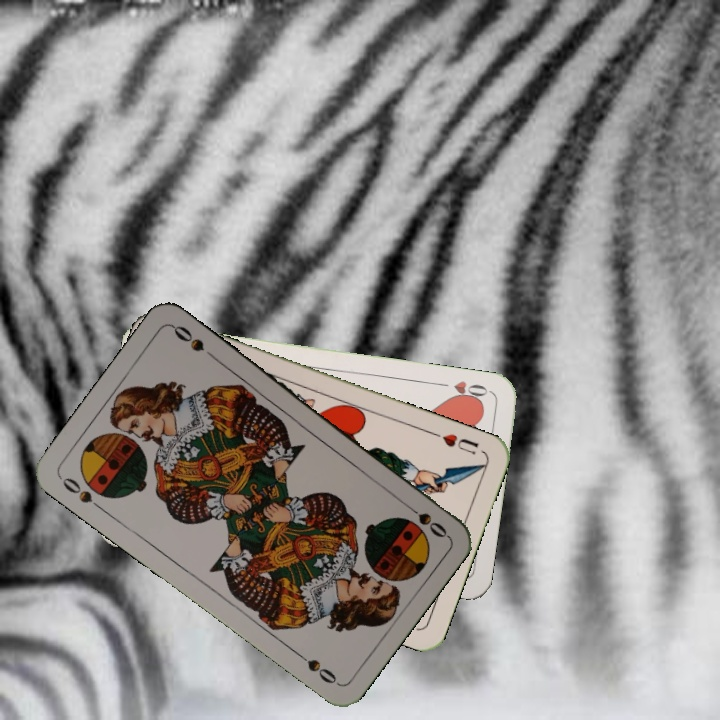HO: (433, 376, 492, 405)
HU: (428, 428, 482, 458)
SO: (399, 498, 450, 541), (56, 472, 107, 514)
